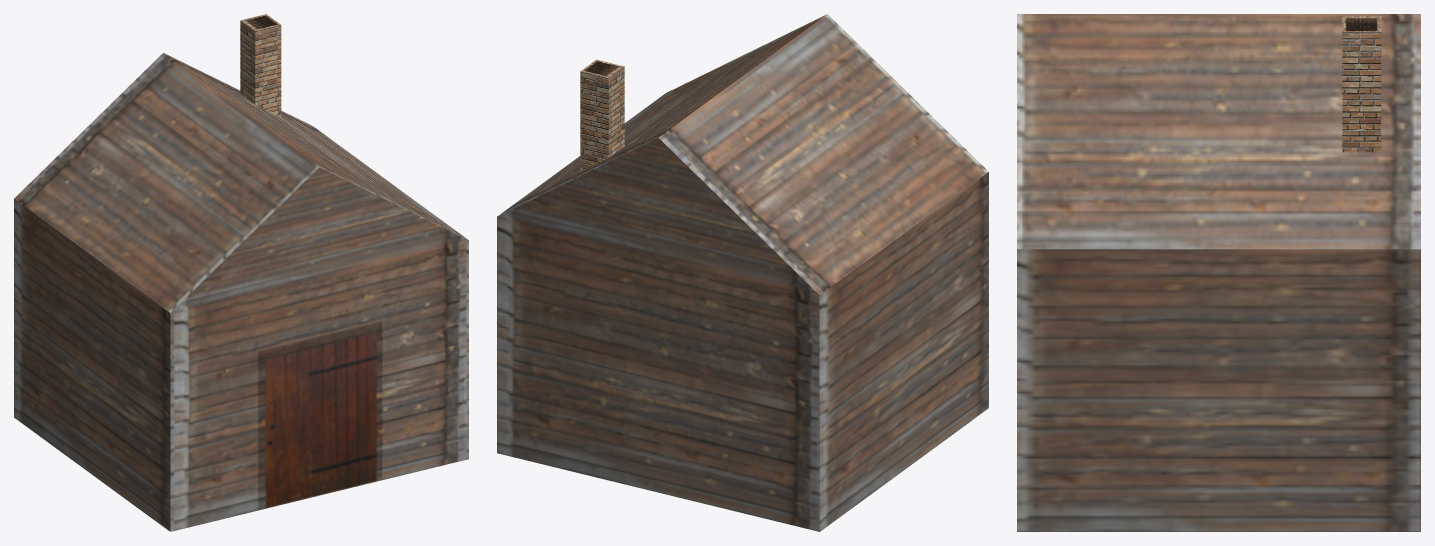
The model's file is LogCabinSmall.FBX.
3 views of the same model, side by side, from view 1: azimuth 30°, elevation 25°; view 2: azimuth 150°, elevation 25°; view 3: azimuth 270°, elevation 25° (orthographic). The views are drawn at different scales.
Parts seen in each view (by area): view 1: Cabin; view 2: Cabin; view 3: Cabin.
Part boxes in pixels (left/top/right/bottom): Cabin: left=14, top=14, right=468, bottom=531; Cabin: left=497, top=14, right=988, bottom=531; Cabin: left=1017, top=14, right=1420, bottom=531.
Size of the model in its own units: 6.7 by 7.66 by 6.08.
